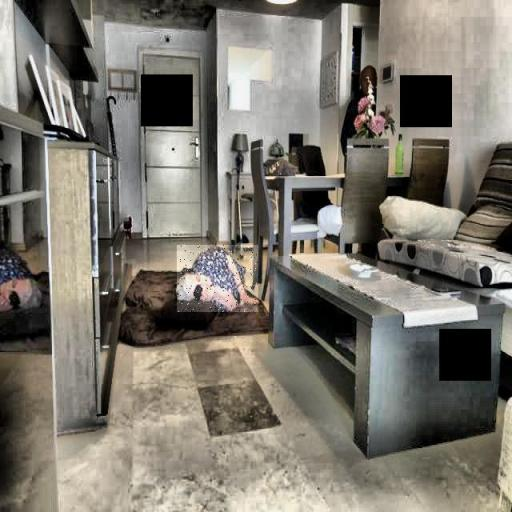Fall: (177, 245, 258, 312)
